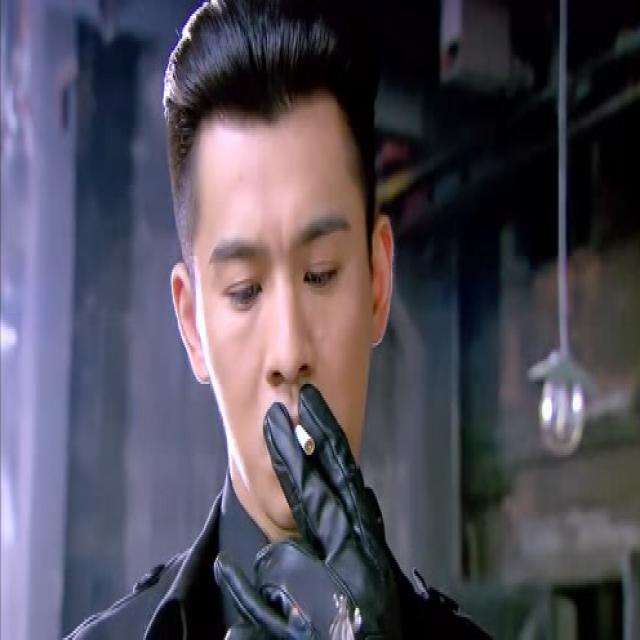smoke: (294, 421, 315, 460)
